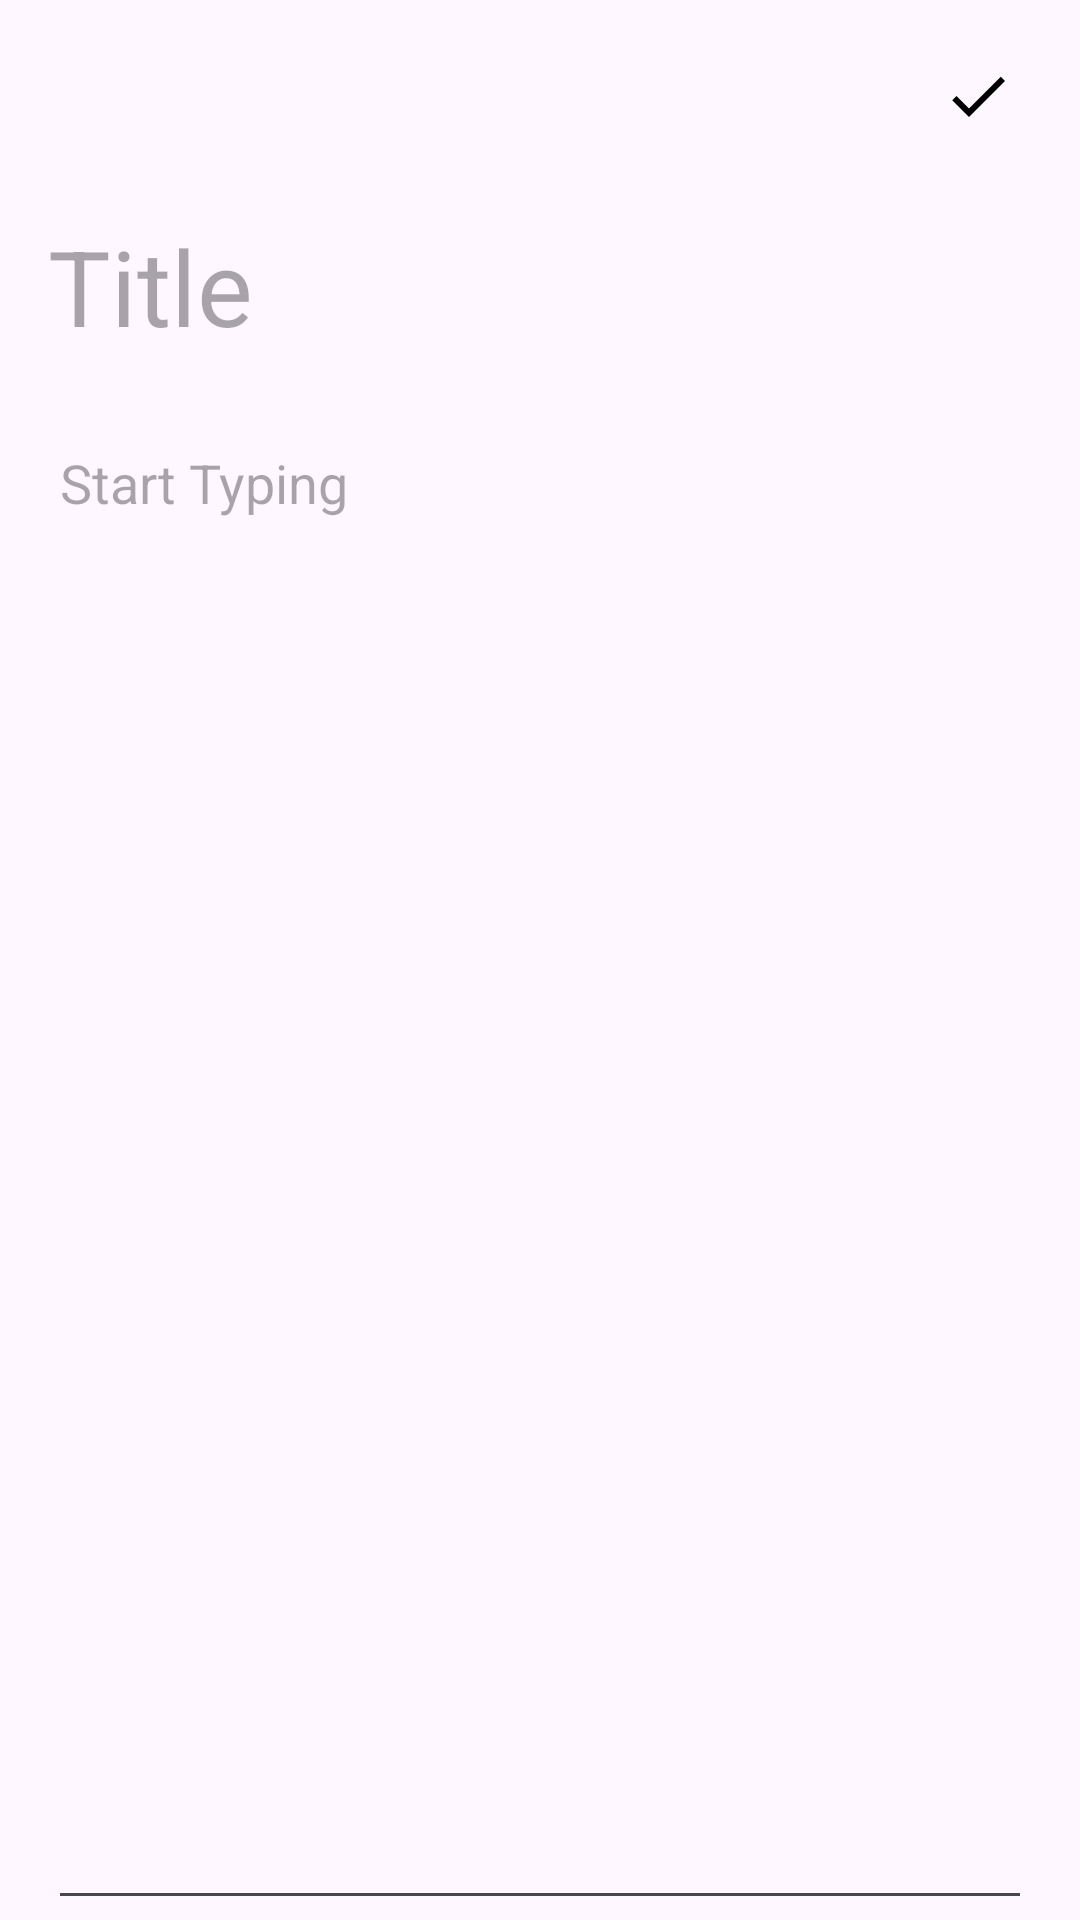

Locate icon controls on the screen. Image size 1080px x 1920px, boxes as (x1, y1, x2, y2).
check: (952, 77, 1005, 117)
